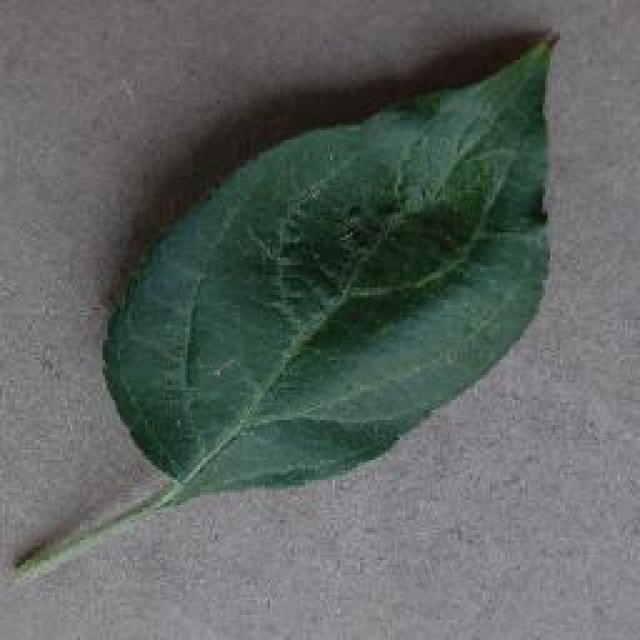apple healthy: (8, 25, 562, 583)
